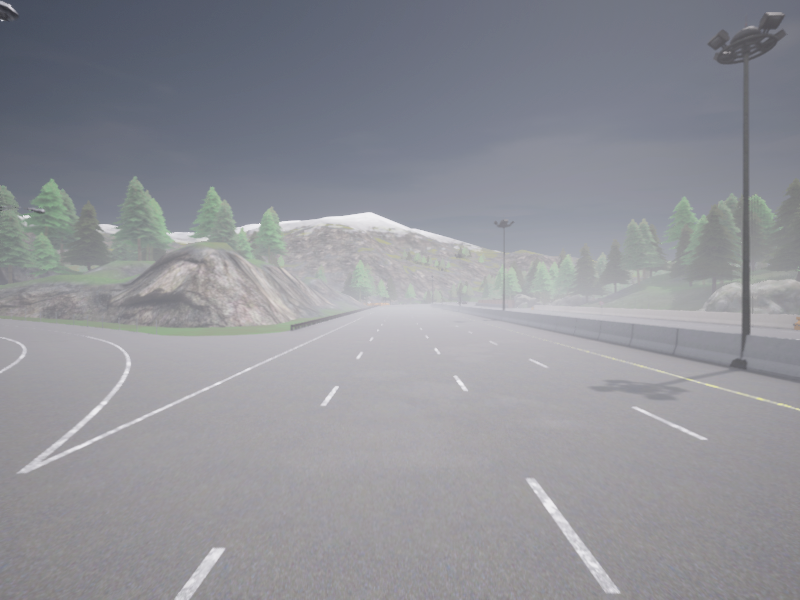vehicle: (463, 301, 467, 304), (458, 302, 462, 303)
